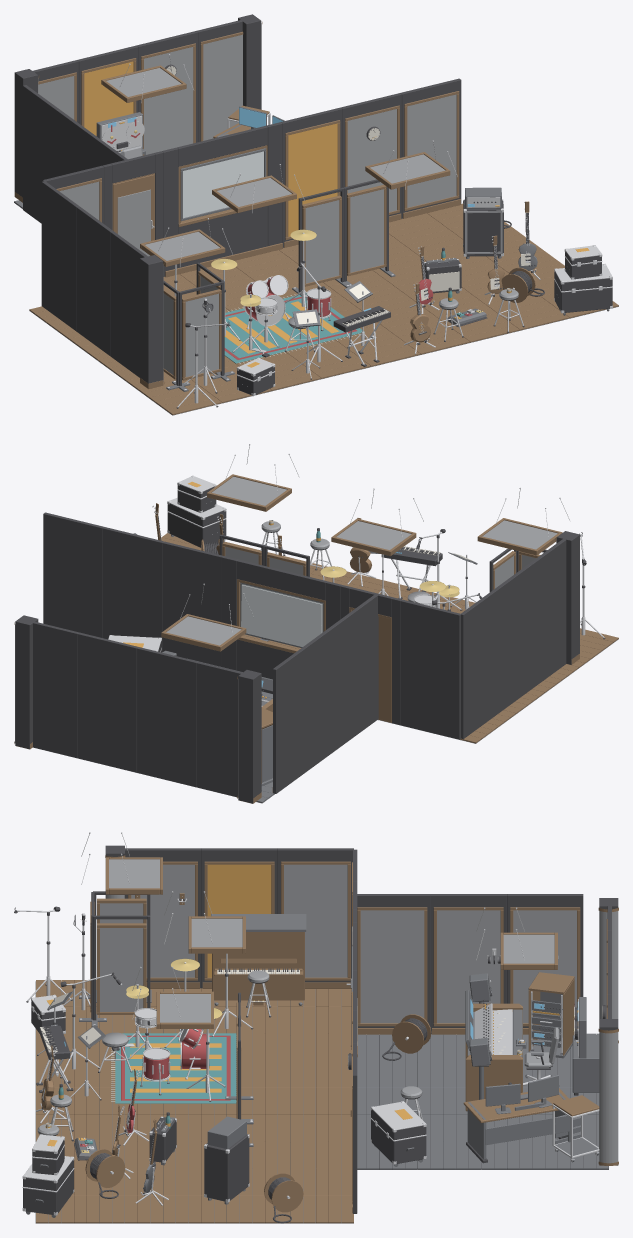
File: music-recording-studio-and-instruments-l-a0d5573e-starter-scene__33834.glb
3 views of the same model, one above another, from view 1: azimuth 30°, elevation 25°; view 2: azimuth 150°, elevation 25°; view 3: azimuth 270°, elevation 25° (orthographic). The views are drawn at different scales.
Visible parts, largest first — view 1: 067-control-room-window-module/0, 071-acoustic-wall-panel/0, 072-acoustic-wall-panel-amber/0, 070-acoustic-wall-panel/2, 073-acoustic-wall-panel/0, 077-acoustic-wall-panel/2, 068-acoustic-wall-panel-amber/2, 079-acoustic-wall-panel/0, 078-acoustic-wall-panel/2, 069-acoustic-wall-panel/2, 074-bass-trap-corner/0, 067-control-room-window-module/3 (+73 smaller); view 2: 065-acoustic-wall-panel/0, 077-acoustic-wall-panel/0, 076-acoustic-wall-panel-amber/0, 070-acoustic-wall-panel/0, 069-acoustic-wall-panel/0, 078-acoustic-wall-panel/0, 075-acoustic-wall-panel/0, 067-control-room-window-module/0, 068-acoustic-wall-panel-amber/0, 079-acoustic-wall-panel/0, 071-acoustic-wall-panel/0, 072-acoustic-wall-panel-amber/0 (+26 smaller); view 3: 081-acoustic-wall-panel/2, 080-acoustic-wall-panel/2, 071-acoustic-wall-panel/2, 121-upright-piano/0, 084-studio-rug/0, 073-acoustic-wall-panel/2, 137-studio-desk-with-screens/1, 114-isolation-screen/4, 072-acoustic-wall-panel-amber/2, 079-acoustic-wall-panel/2, 083-bass-trap-corner/1, 098-bass-amp-stack/0 (+104 smaller).
Part boxes in pixels (<box>): 067-control-room-window-module/0: <box>162,122,282,276</box>; 071-acoustic-wall-panel/0: <box>41,181,78,330</box>; 072-acoustic-wall-panel-amber/0: <box>76,206,113,356</box>; 070-acoustic-wall-panel/2: <box>407,94,456,207</box>; 073-acoustic-wall-panel/0: <box>110,231,147,377</box>; 077-acoustic-wall-panel/2: <box>144,47,193,154</box>; 068-acoustic-wall-panel-amber/2: <box>288,123,337,236</box>; 079-acoustic-wall-panel/0: <box>23,85,59,223</box>; 078-acoustic-wall-panel/2: <box>203,34,242,140</box>; 069-acoustic-wall-panel/2: <box>347,109,396,212</box>; 074-bass-trap-corner/0: <box>140,255,163,383</box>; 067-control-room-window-module/3: <box>183,151,263,218</box>; 065-acoustic-wall-panel/0: <box>400,599,460,739</box>; 077-acoustic-wall-panel/0: <box>77,632,138,772</box>; 076-acoustic-wall-panel-amber/0: <box>137,647,197,786</box>; 070-acoustic-wall-panel/0: <box>43,512,104,637</box>; 069-acoustic-wall-panel/0: <box>103,527,163,652</box>; 078-acoustic-wall-panel/0: <box>18,618,78,757</box>; 075-acoustic-wall-panel/0: <box>196,661,257,796</box>; 067-control-room-window-module/0: <box>221,556,342,693</box>; 068-acoustic-wall-panel-amber/0: <box>162,541,223,666</box>; 079-acoustic-wall-panel/0: <box>273,644,310,793</box>; 071-acoustic-wall-panel/0: <box>461,589,497,739</box>; 072-acoustic-wall-panel-amber/0: <box>495,564,531,713</box>; 081-acoustic-wall-panel/2: <box>360,910,424,1023</box>; 080-acoustic-wall-panel/2: <box>437,910,500,1023</box>; 071-acoustic-wall-panel/2: <box>284,864,347,977</box>; 121-upright-piano/0: <box>212,932,304,1005</box>; 084-studio-rug/0: <box>115,1033,236,1103</box>; 073-acoustic-wall-panel/2: <box>131,864,194,977</box>; 137-studio-desk-with-screens/1: <box>467,1075,570,1159</box>; 114-isolation-screen/4: <box>100,928,143,1011</box>; 072-acoustic-wall-panel-amber/2: <box>207,864,271,977</box>; 079-acoustic-wall-panel/2: <box>513,910,576,1023</box>; 083-bass-trap-corner/1: <box>599,1032,618,1163</box>; 098-bass-amp-stack/0: <box>204,1134,249,1201</box>.
Size of the model in its own units: 9.05 by 2.91 by 9.5.
